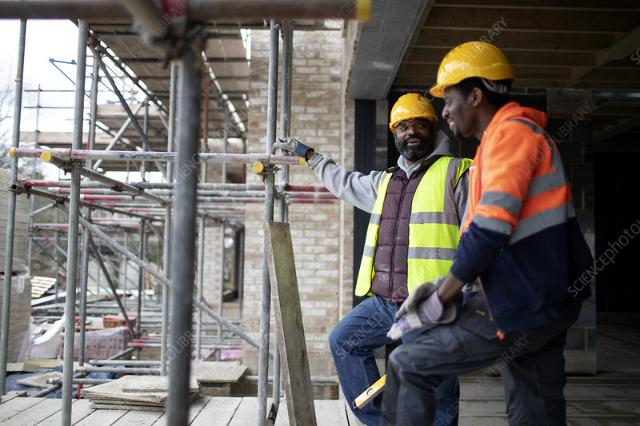helmet: (429, 38, 515, 90), (382, 89, 442, 127)
vest: (376, 163, 469, 295), (472, 106, 554, 252)
